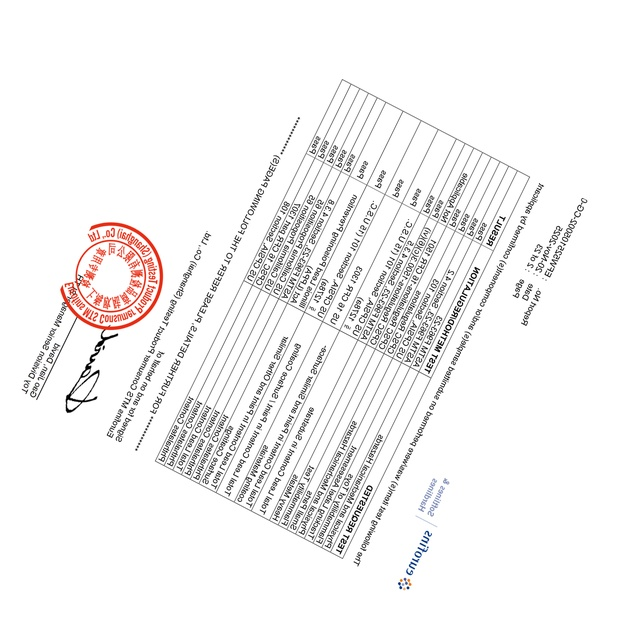eurofins: (391, 522, 441, 592)
